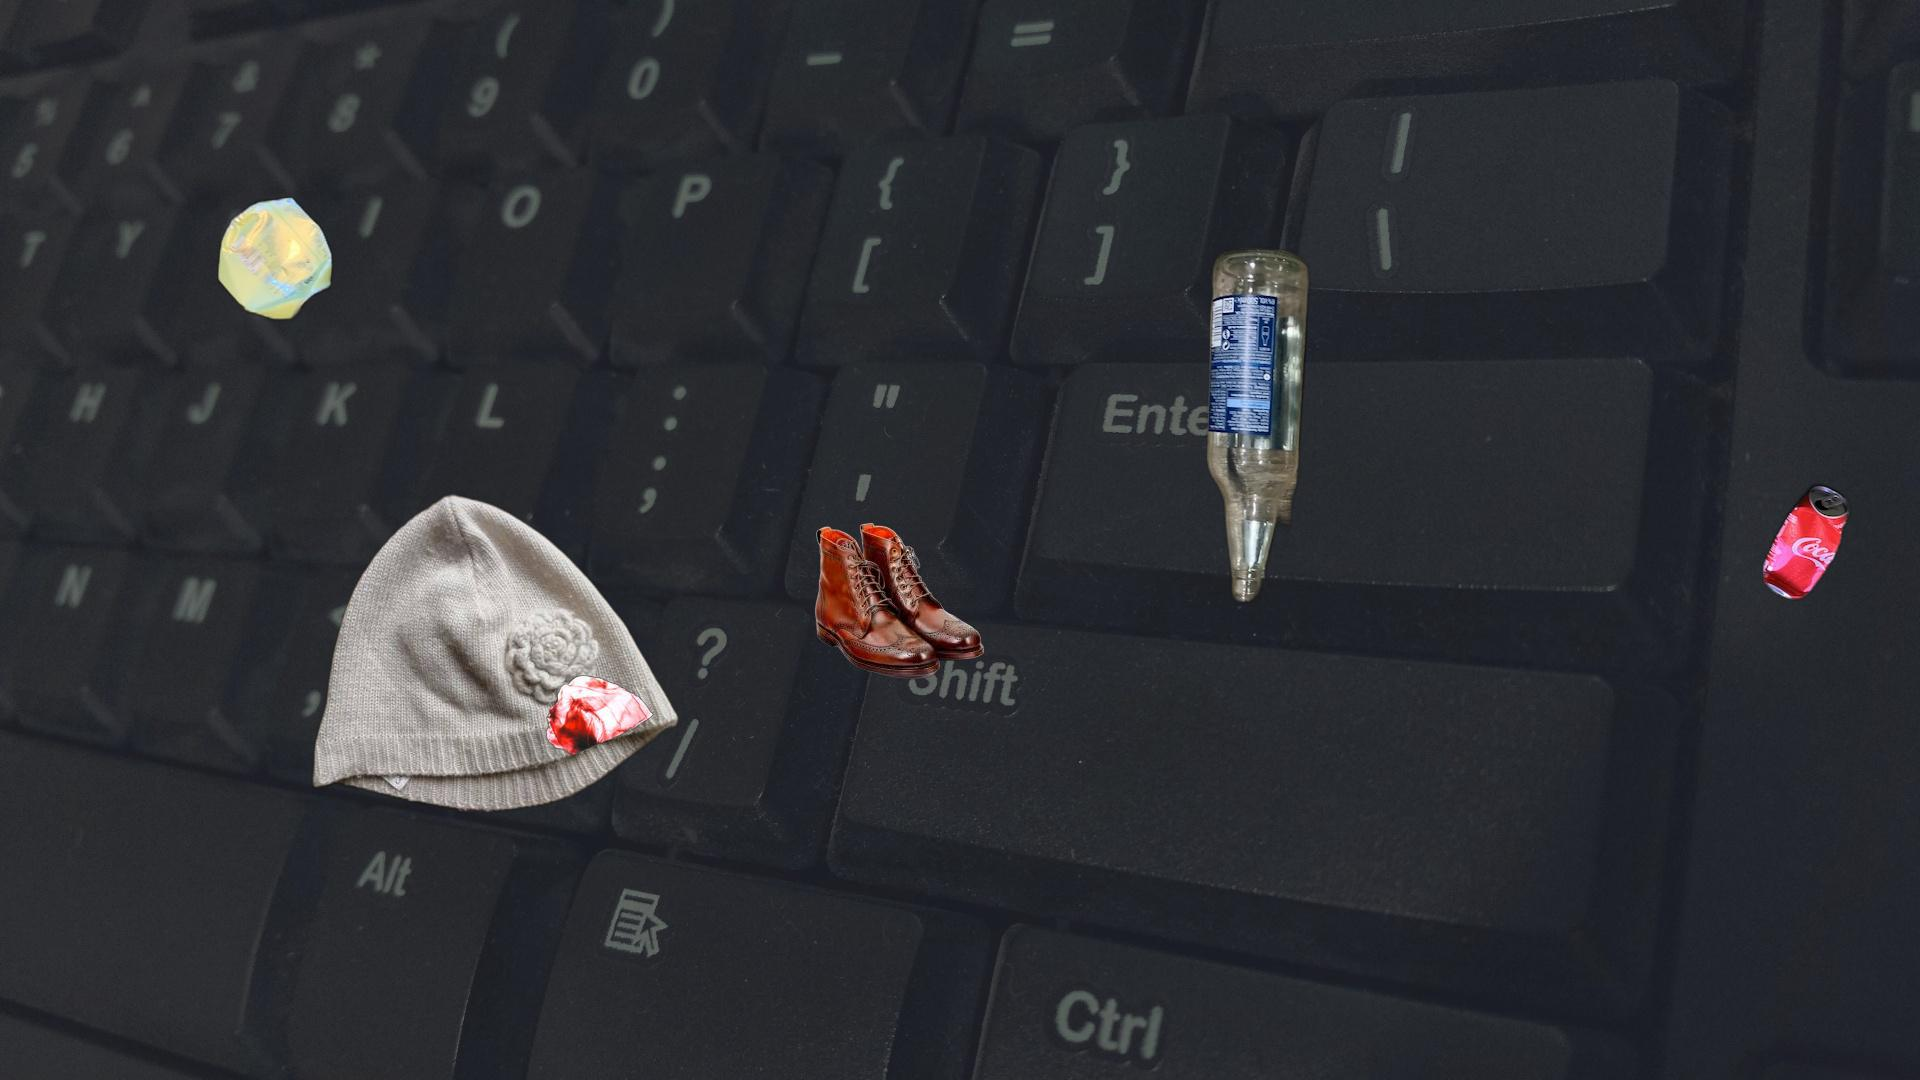clothes: (309, 479, 682, 818)
glass: (1203, 243, 1313, 609)
metal-cans: (214, 191, 338, 326), (1758, 479, 1855, 607)
plastic-bag: (543, 673, 654, 757)
shoes: (812, 517, 986, 680)
